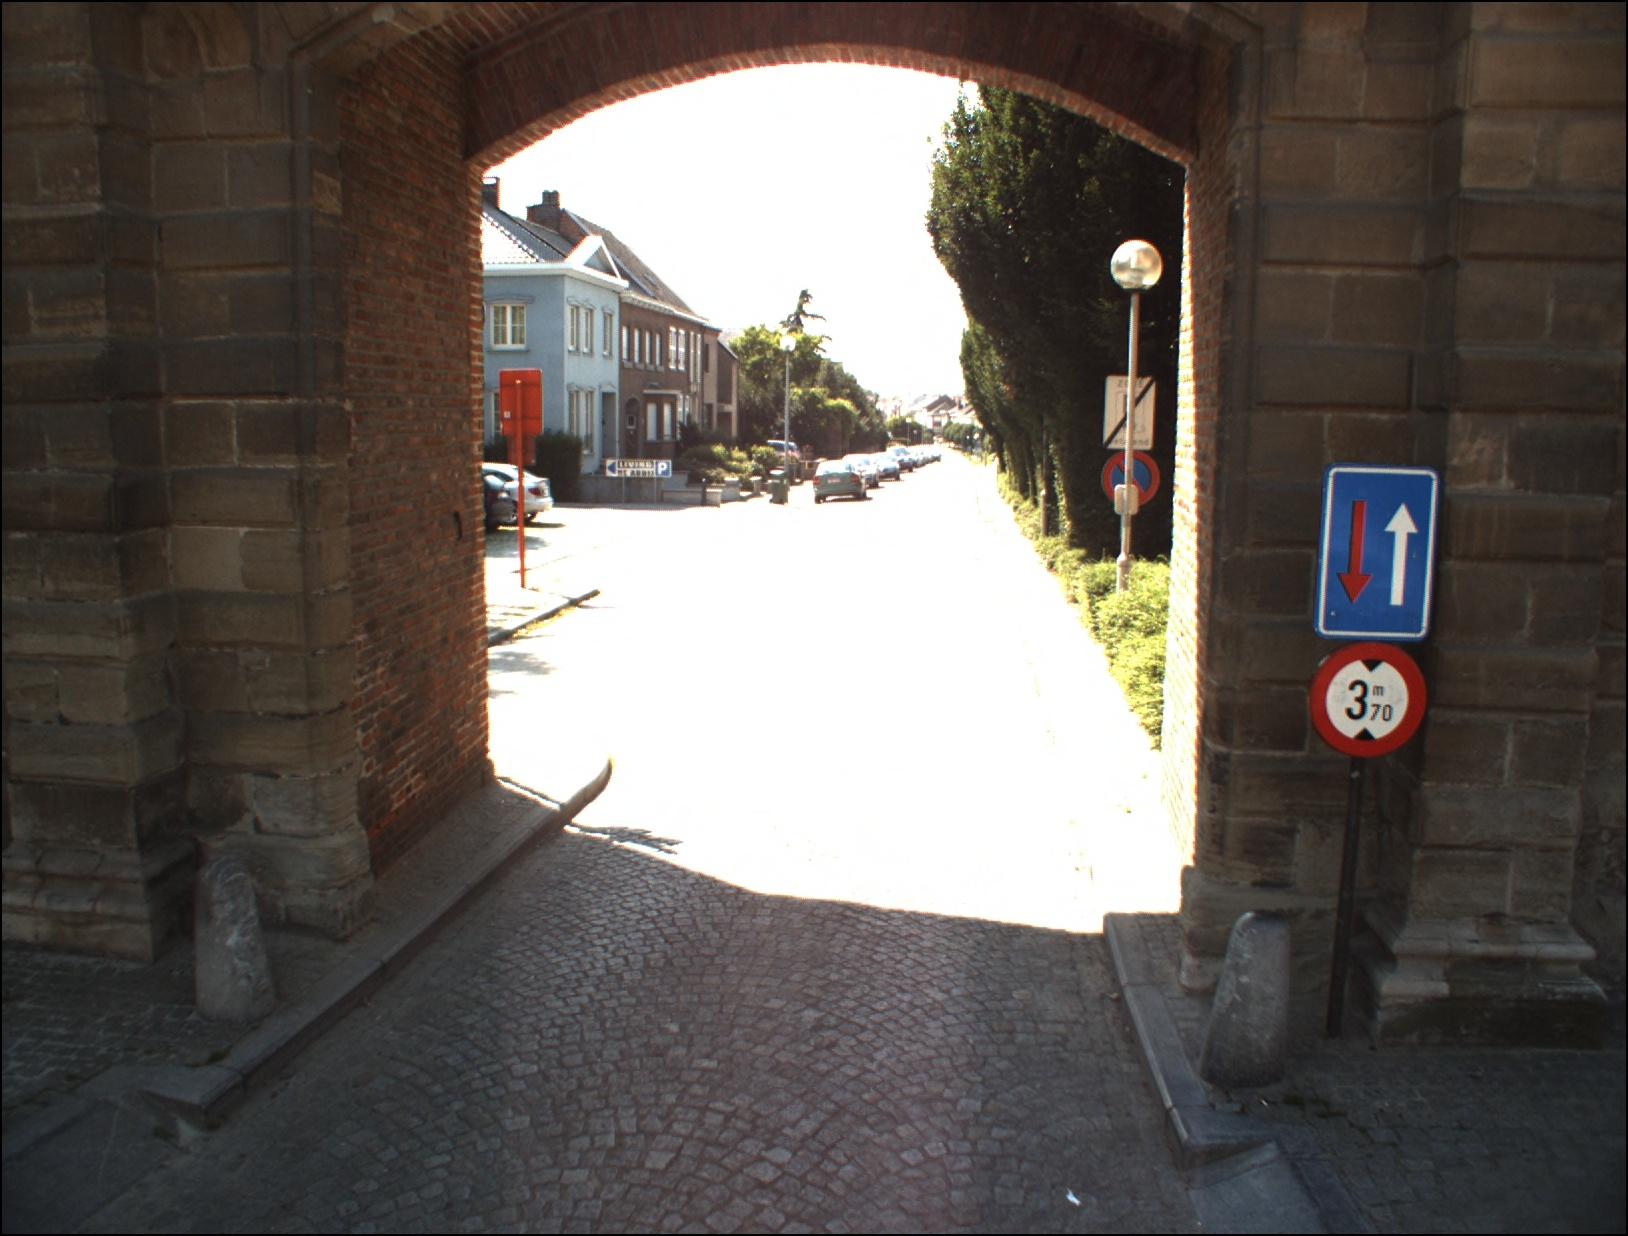roadnarrow1: (1326, 467, 1429, 635)
